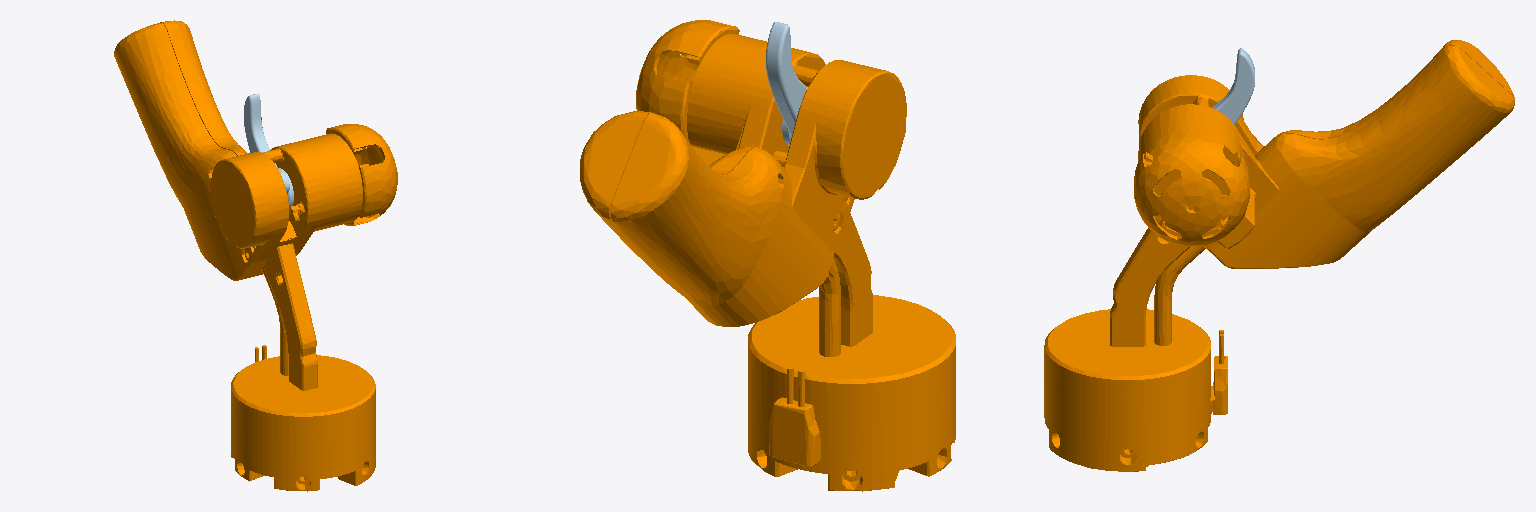
robot.urdf — yam_teaching_handle:
<?xml version="1.0"?>
<!-- Generated from yam_teaching_handle.xml by i2rt/robot_models/scripts/mjcf_to_urdf.py. Edit the
     MJCF and re-run the script instead of editing this file. The root link `gripper` is the arm's
     `gripper` mount link, so these links sit on an arm URDF's `gripper` link as is. -->
<robot name="yam_teaching_handle">
    <link name="gripper">
        <inertial>
            <origin xyz="0.00222058 0.0299962047 0.0591553401" rpy="0 0 0" />
            <mass value="0.238592" />
            <inertia ixx="0.000757284" ixy="5.44276197e-06" ixz="-1.66539758e-05" iyy="0.000475324321" iyz="-0.000255316816" izz="0.000373210679" />
        </inertial>
        <visual>
            <origin xyz="-0.0106413 0.1392684 0.120275271" rpy="2.35620119 0 0" />
            <geometry>
                <mesh filename="assets/handle.stl" />
            </geometry>
            <material name="rgba_1_0.6_0_1">
                <color rgba="1 0.6 0 1" />
            </material>
        </visual>
    </link>
    <link name="tcp_site" />
    <joint name="tcp_site_joint" type="fixed">
        <origin xyz="-0.000241398 0.110434524 0.136986203" rpy="0 0 0" />
        <parent link="gripper" />
        <child link="tcp_site" />
    </joint>
    <joint name="gripper" type="revolute">
        <origin xyz="1e-05 0.022721291 0.0994284873" rpy="2.35620119 0 0" />
        <parent link="gripper" />
        <child link="trigger" />
        <axis xyz="1 0 0" />
        <limit effort="1" velocity="1" lower="-0.680678" upper="0" />
    </joint>
    <link name="trigger">
        <inertial>
            <origin xyz="-2.88511e-09 0.000787745 -0.0050943" rpy="0 0 0" />
            <mass value="0.00499911" />
            <inertia ixx="6.57726e-07" ixy="0" ixz="0" iyy="7.00643e-07" iyz="7.99927e-08" izz="2.3739e-07" />
        </inertial>
        <visual>
            <origin xyz="-0.0106913 -0.0680085 -0.0984379" rpy="0 0 0" />
            <geometry>
                <mesh filename="assets/trigger.stl" />
            </geometry>
            <material name="rgba_0.764706_0.878431_0.945098_1">
                <color rgba="0.764706 0.878431 0.945098 1" />
            </material>
        </visual>
    </link>
</robot>

--- What the picture shows (computed from the rendered views, not written in the file) ---
Views: 3 orthographic renders of the robot side by side, from view 1: azimuth 30°, elevation 25°; view 2: azimuth 150°, elevation 25°; view 3: azimuth 270°, elevation 25°.
Model yam_teaching_handle with 3 links and 2 joints (1 revolute, 1 fixed), rooted at gripper, posed every joint at zero.
Links seen in each view (by area): view 1: gripper, trigger; view 2: gripper, trigger; view 3: gripper, trigger.
Link boxes in pixels (x1=…): gripper: x1=114, y1=20, x2=397, y2=491; trigger: x1=244, y1=94, x2=293, y2=208; gripper: x1=580, y1=20, x2=955, y2=491; trigger: x1=766, y1=22, x2=807, y2=145; gripper: x1=1044, y1=40, x2=1514, y2=471; trigger: x1=1212, y1=48, x2=1254, y2=124.
Size in the robot's own frame: 0.0792 by 0.1608 by 0.1476 metres.
Meshes: 2 distinct files referenced, 2 mesh visuals loaded (2 binary STL).
